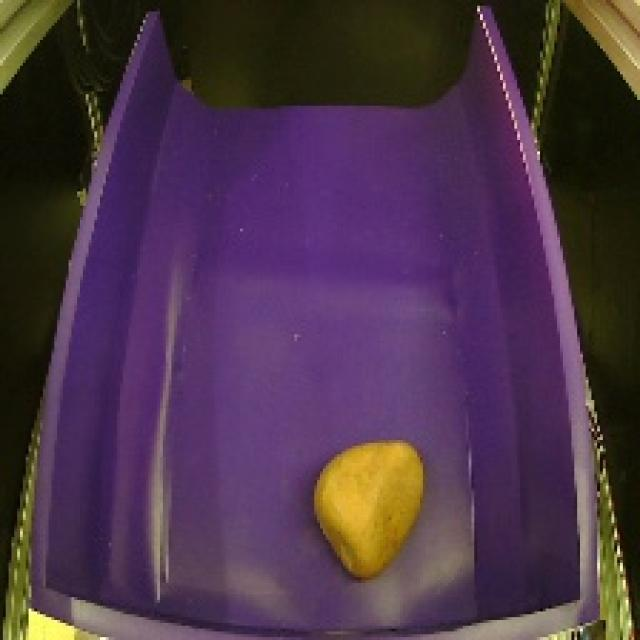cobbles: (302, 423, 435, 582)
